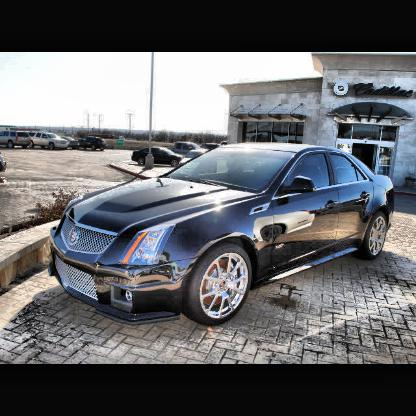Cadillac CTS-V Sedan 2012: (44, 143, 398, 330)
